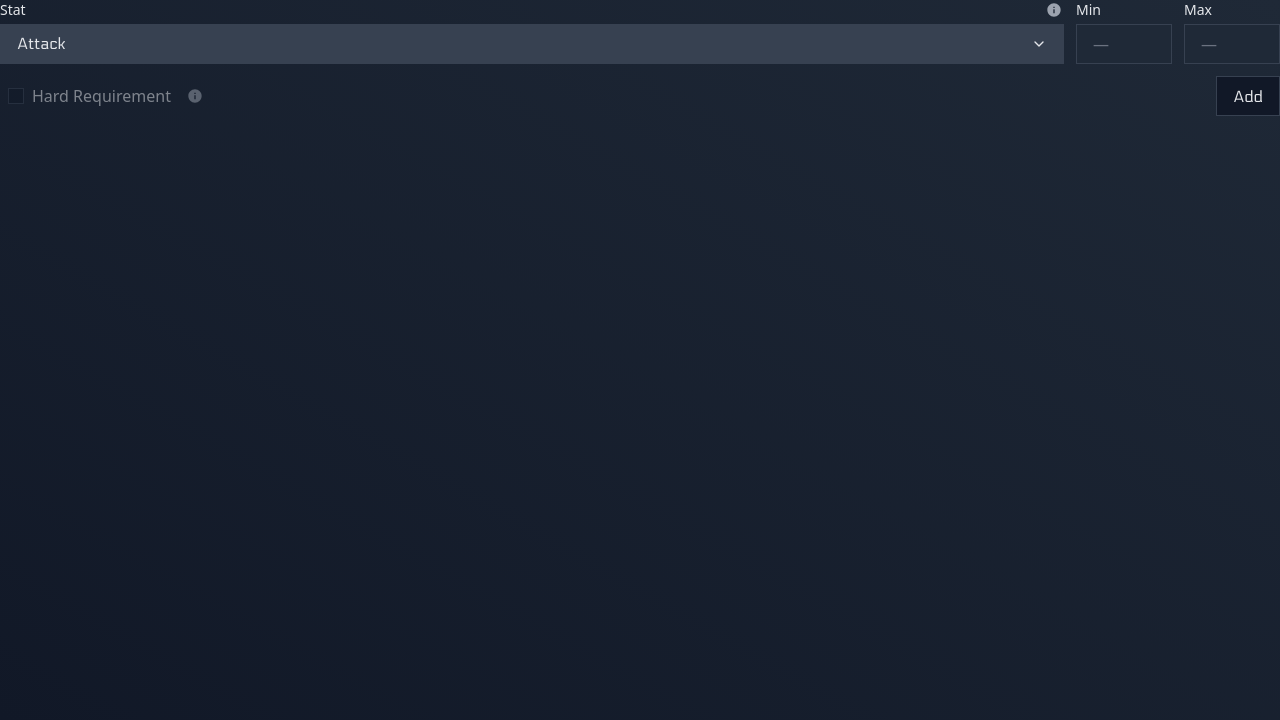
Test: StatPriorityForm › offers Direct Damage as a stat priority
Click the label labelled "Stat".
click(13, 10)  # box top-left (0, 0), bottom-right (1064, 20)
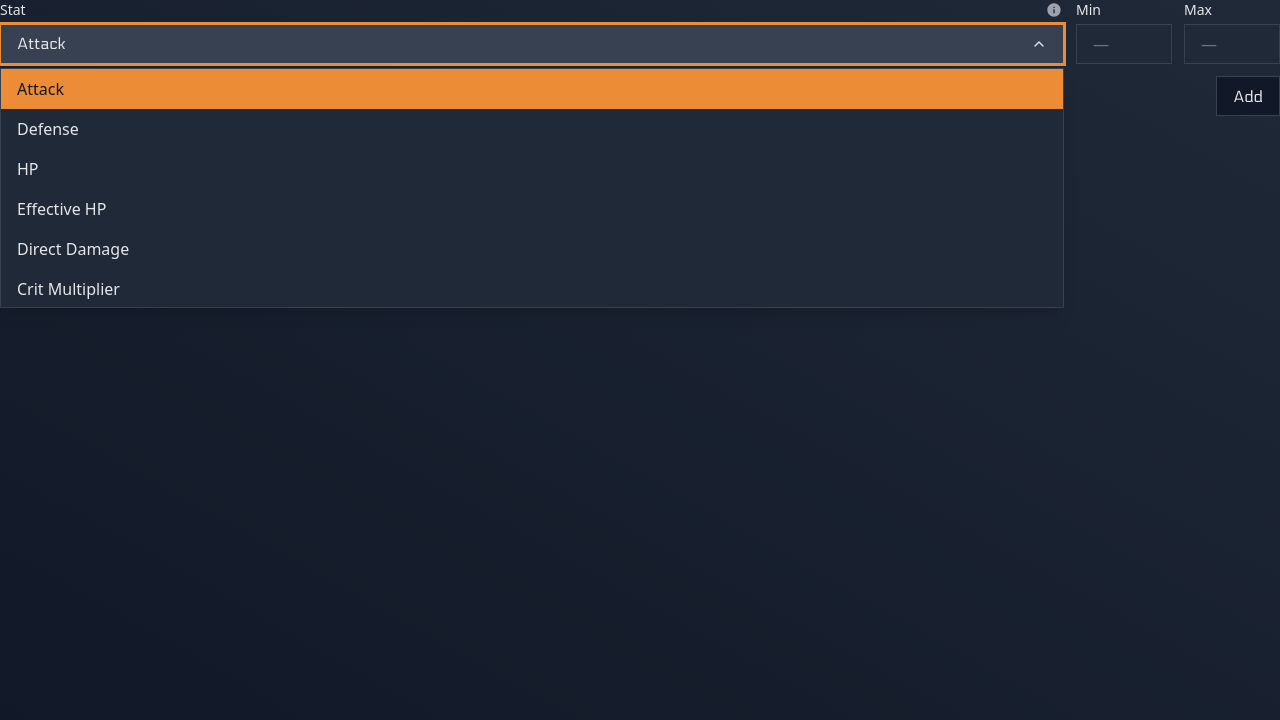
Expected: the option "Direct Damage" is shown, top-left (17, 238), bottom-right (129, 260)
